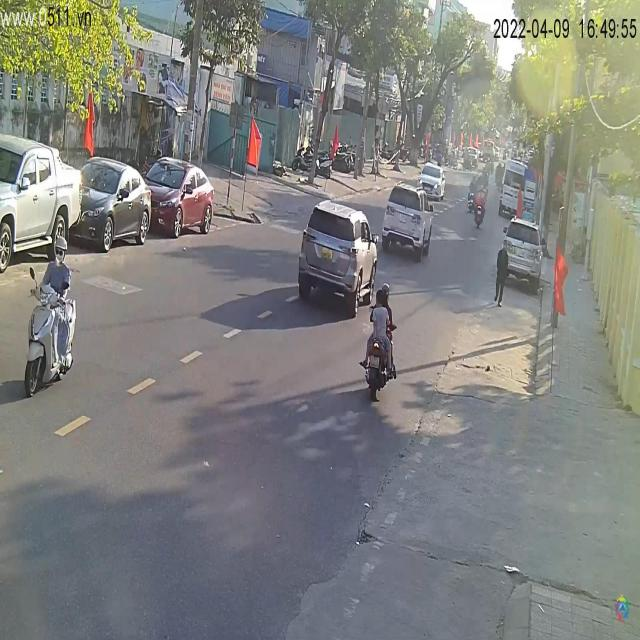car: (1, 134, 83, 277), (296, 198, 380, 316), (73, 158, 154, 253), (141, 156, 216, 240), (381, 183, 435, 260), (502, 216, 542, 292), (499, 159, 538, 220), (420, 161, 447, 199)
motorcycle: (24, 247, 79, 397), (361, 326, 398, 408)
